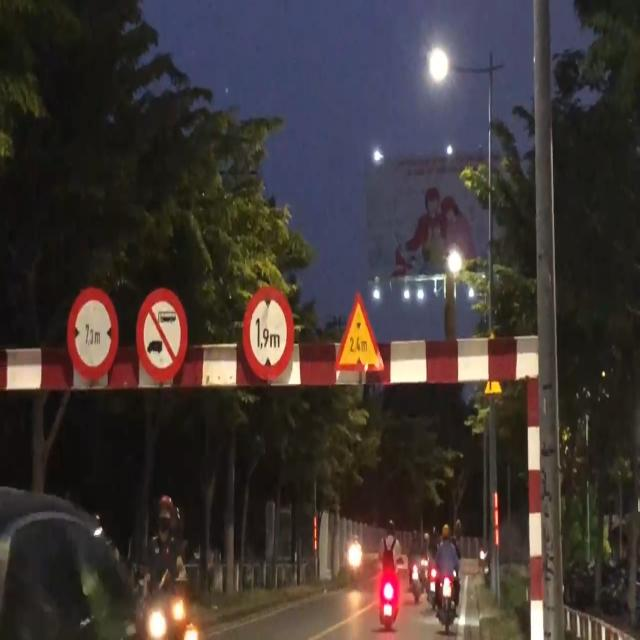Bien bao cam xe oto khach va xe oto tai: (134, 277, 188, 382)
Bien bao chieu cao tinh khong thuc te: (330, 282, 391, 388)
Bien bao han che chieu cao: (238, 284, 299, 394)
